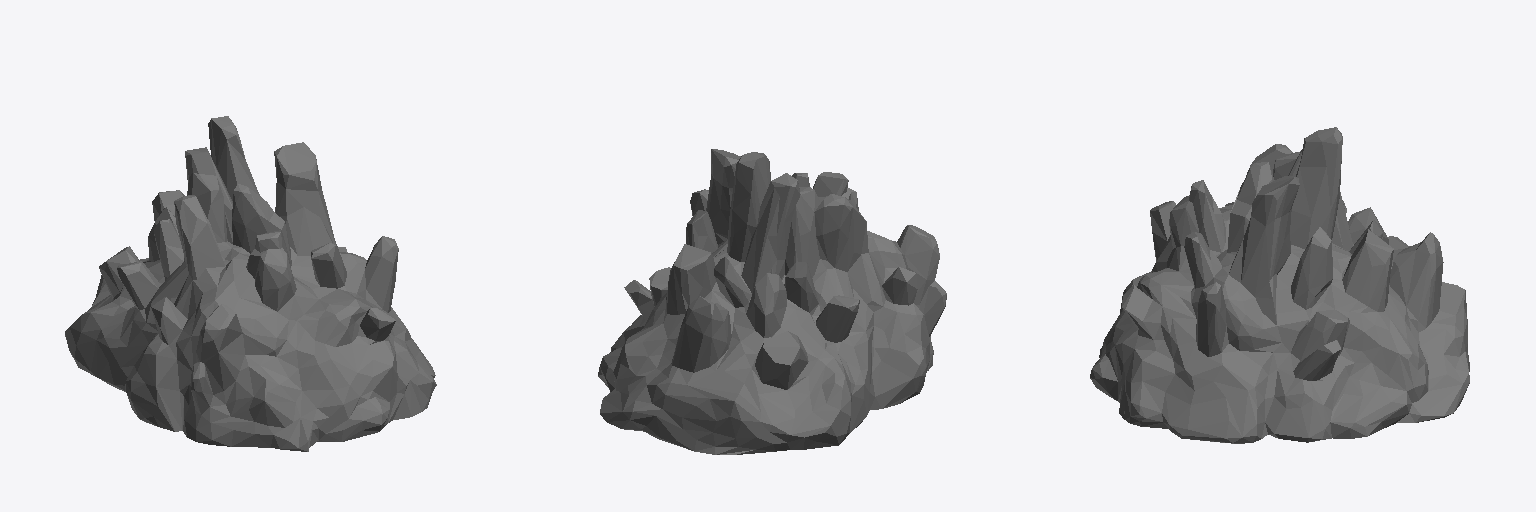
The model's file is SM_CrystalMetal_02.obj.
3 renders of one model, left to right at view 1: azimuth 30°, elevation 25°; view 2: azimuth 150°, elevation 25°; view 3: azimuth 270°, elevation 25°, orthographic.
Parts seen in each view (by area): view 1: CrystalMetal_02; view 2: CrystalMetal_02; view 3: CrystalMetal_02.
Boxes of the visible parts, box(x1,y1,x2,y2) form: CrystalMetal_02: box(65, 116, 436, 451); CrystalMetal_02: box(598, 149, 946, 454); CrystalMetal_02: box(1090, 127, 1469, 443).
Size of the model in its own units: 266 by 217 by 310.